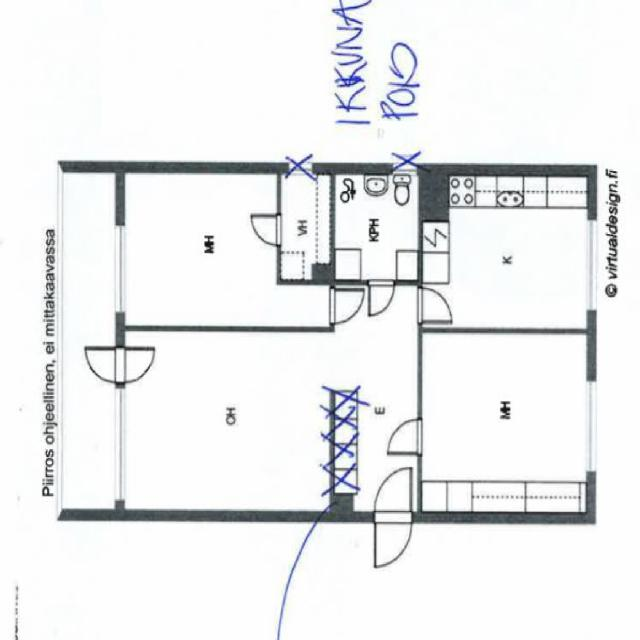door: (375, 468, 411, 522), (375, 511, 411, 565), (84, 347, 125, 383), (115, 347, 155, 383), (417, 286, 453, 322), (388, 419, 422, 454), (330, 290, 363, 322), (250, 215, 282, 246), (370, 280, 396, 316)
